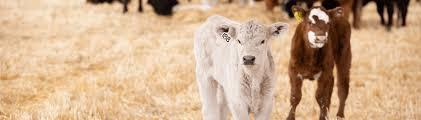cow: (195, 14, 288, 119), (289, 1, 355, 120)
